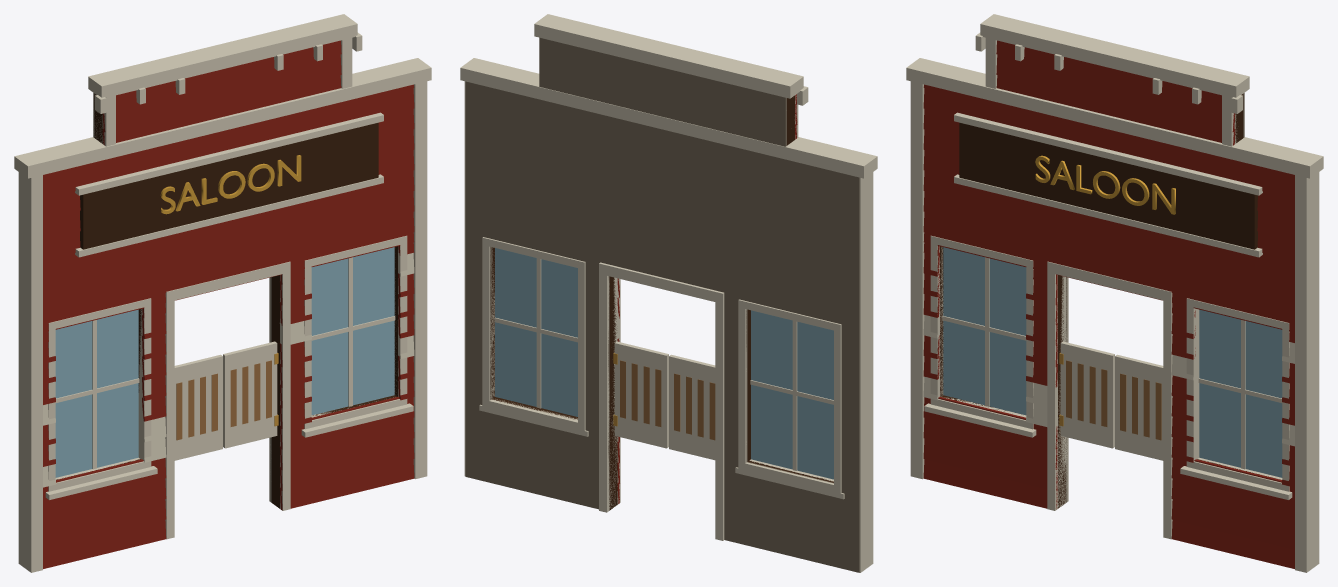
File: SM_Facade_Saloon.obj
3 views of the same model, side by side, from view 1: azimuth 30°, elevation 25°; view 2: azimuth 150°, elevation 25°; view 3: azimuth 330°, elevation 25° (orthographic).
Parts seen in each view (by area): view 1: SM_Facade_Saloon; view 2: SM_Facade_Saloon; view 3: SM_Facade_Saloon.
Part boxes in pixels (<box>): SM_Facade_Saloon: <box>14,14,431,572</box>; SM_Facade_Saloon: <box>460,14,877,572</box>; SM_Facade_Saloon: <box>906,14,1323,572</box>.
Bounding box in the file's own units: 4.1 × 4.56 × 0.305.
